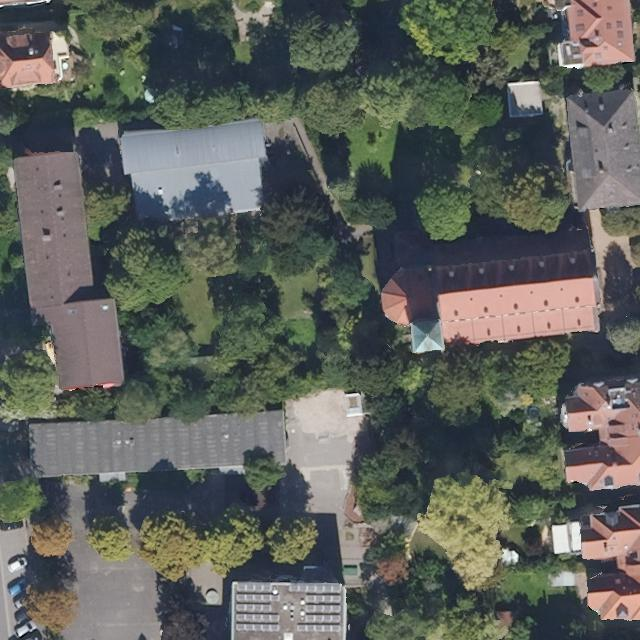PV: (289, 582, 346, 639), (231, 582, 284, 639)
